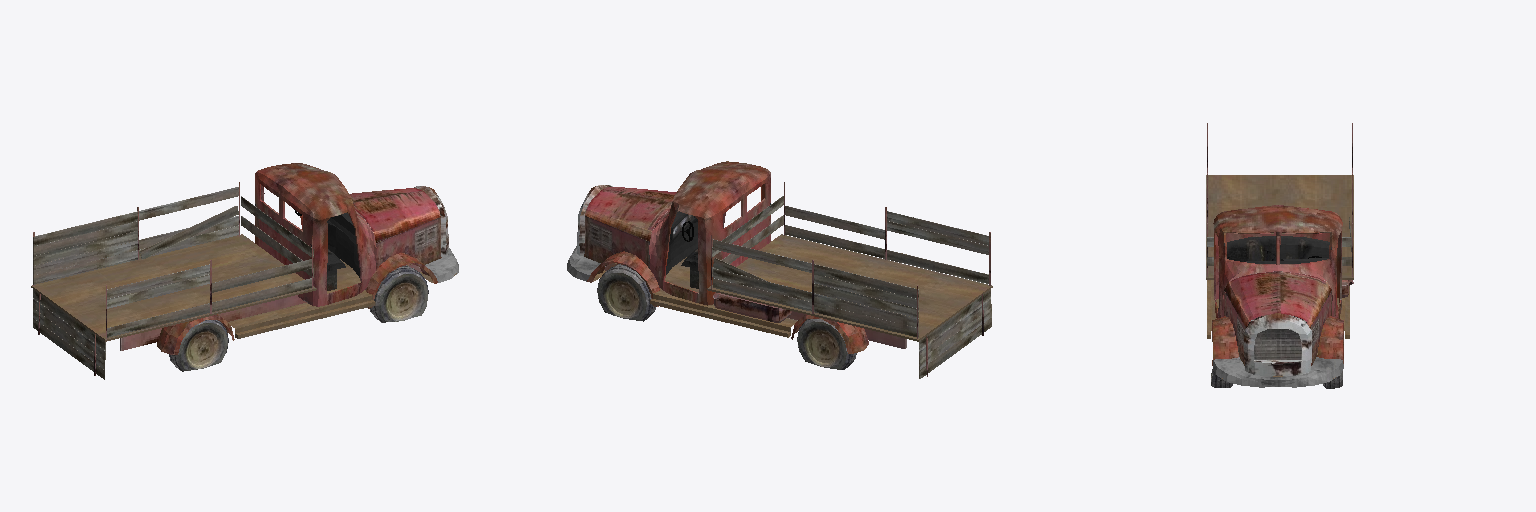
3 views of the same model, side by side, from view 1: azimuth 30°, elevation 25°; view 2: azimuth 150°, elevation 25°; view 3: azimuth 270°, elevation 25° (orthographic).
Parts seen in each view (by area): view 1: Truck1_Truck; view 2: Truck1_Truck; view 3: Truck1_Truck.
Boxes of the visible parts, <box> form: Truck1_Truck: <box>31,163,458,379</box>; Truck1_Truck: <box>567,161,992,378</box>; Truck1_Truck: <box>1206,123,1353,388</box>.
Size of the model in its own units: 66.44 by 22.8 by 22.61.
Materials: 1 (1 with a texture image).